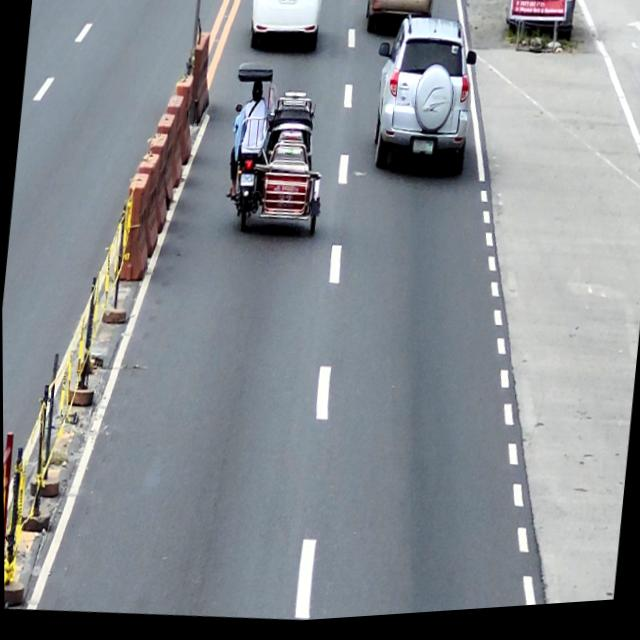Car: (366, 14, 480, 189), (246, 0, 325, 58), (363, 0, 436, 43)
License-Plate: (410, 143, 434, 163), (239, 175, 254, 192), (278, 0, 297, 9)
Tricycle: (221, 59, 333, 244)
